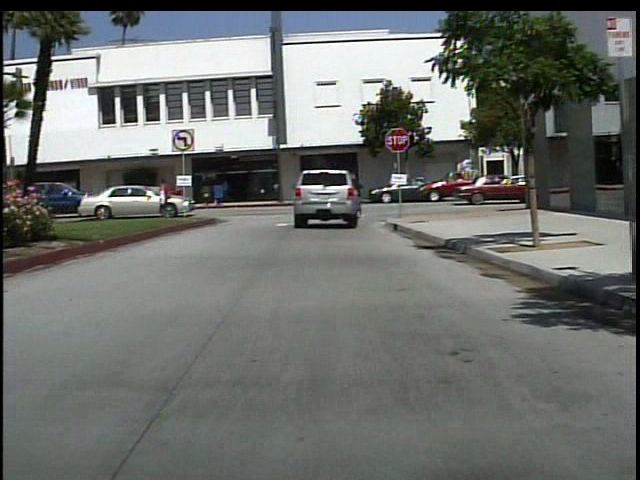person: (344, 170, 370, 225), (154, 174, 179, 219), (215, 177, 231, 206)
